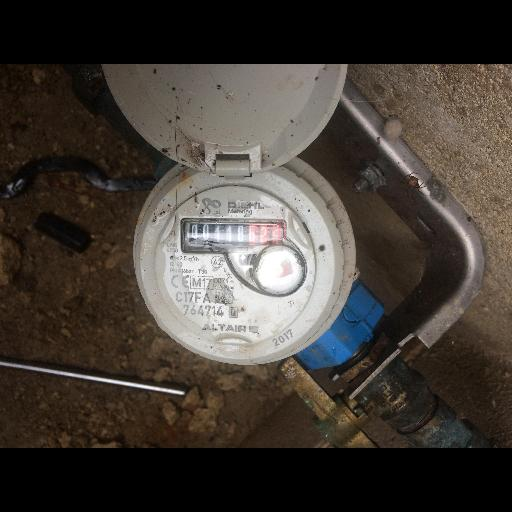0: (190, 223, 200, 245), (202, 223, 211, 246)
1: (213, 224, 222, 245), (225, 224, 234, 245)
2: (260, 225, 271, 246), (271, 224, 282, 245)
6: (248, 224, 258, 247)
8: (237, 224, 245, 247)
border_water_meter_number: (184, 218, 305, 258)
